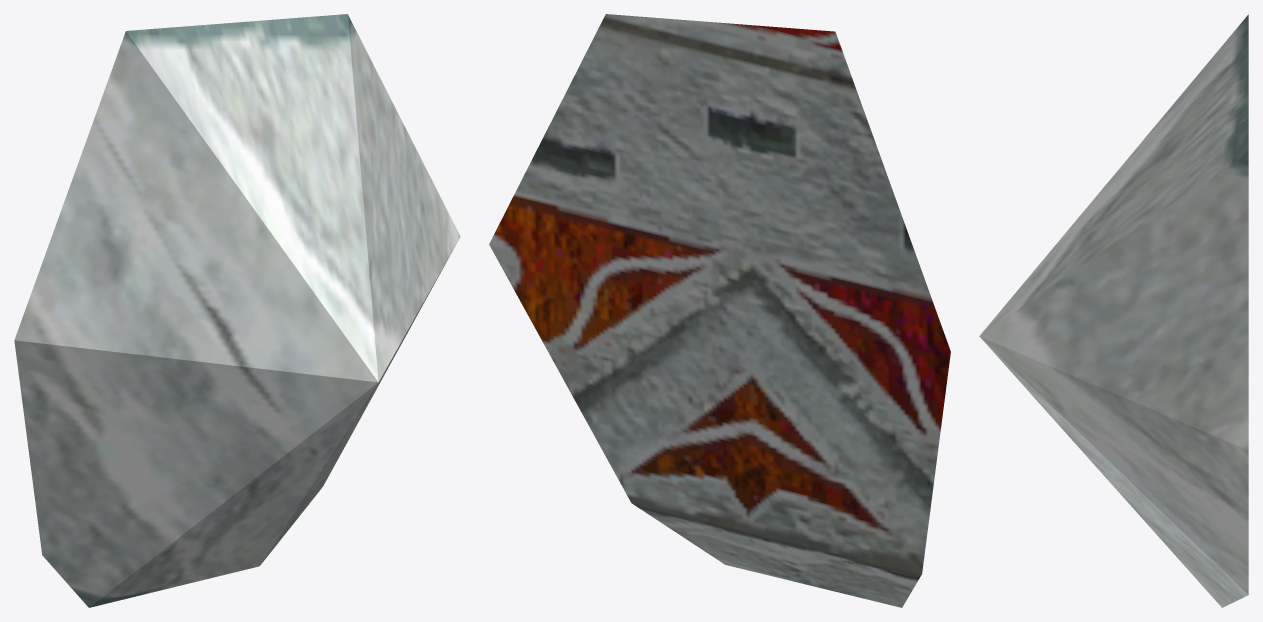
The model's file is Piece8.obj.
3 renders of one model, left to right at view 1: azimuth 30°, elevation 25°; view 2: azimuth 150°, elevation 25°; view 3: azimuth 270°, elevation 25°, orthographic. The views are drawn at different scales.
Bounding box in the file's own units: 23.5 × 27.9 × 12.68.
Materials: 2 (2 with a texture image).
